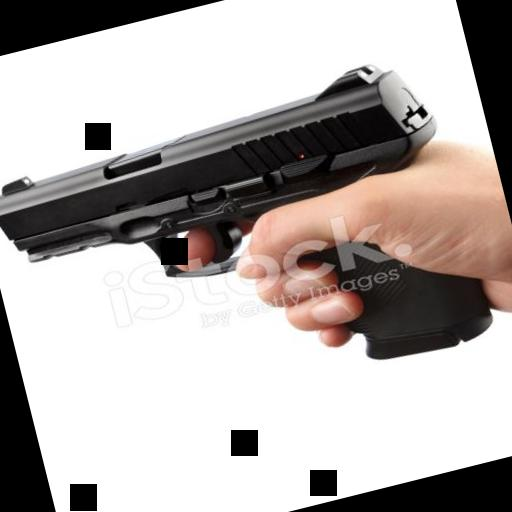Handgun: (0, 37, 497, 448)
